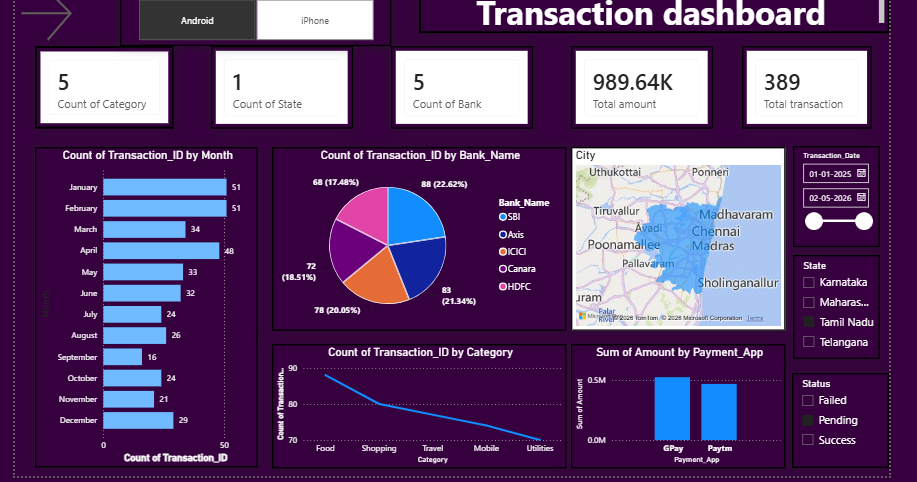

This screenshot's page, from the dashboard's own definition file:
{"tool":"powerbi","page":{"name":"Page 1","canvas":[1280,720],"ordinal":0},"visuals":[{"type":"textbox","box":[591.3,0,688.7,72.2],"z":0},{"type":"cardVisual","fields":{"Data":["CountNonNull(gpay paytm data set.Transaction_ID)"]},"box":[1063.9,90.7,190.2,121.5],"z":1000},{"type":"cardVisual","fields":{"Data":["Sum(gpay paytm data set.Amount)"]},"box":[813.7,90.7,207.8,121.5],"z":2000},{"type":"cardVisual","fields":{"Data":["Count(gpay paytm data set.Bank_Name)"]},"box":[550.2,90.7,207.8,121.5],"z":3000},{"type":"cardVisual","fields":{"Data":["Count(gpay paytm data set.State)"]},"box":[286.8,90.7,207.8,121.5],"z":4000},{"type":"cardVisual","fields":{"Data":["Count(gpay paytm data set.Category)"]},"box":[29.3,90.7,203.4,121.5],"z":5000},{"type":"pieChart","fields":{"Y":["CountNonNull(gpay paytm data set.Transaction_ID)"],"Category":["gpay paytm data set.Bank_Name"]},"box":[375.4,238.5,430.8,269.2],"z":6000},{"type":"barChart","fields":{"Category":["gpay paytm data set.Transaction_Date.Variation.Date Hierarchy.Month"],"Y":["CountNonNull(gpay paytm data set.Transaction_ID)"]},"box":[29.2,238.5,326.2,469.2],"z":7000},{"type":"lineChart","fields":{"Category":["gpay paytm data set.Category"],"Y":["CountNonNull(gpay paytm data set.Transaction_ID)"]},"box":[375.4,526.2,430.8,181.5],"z":8000},{"type":"filledMap","fields":{"Category":["gpay paytm data set.City"]},"box":[813.8,238.5,313.8,269.2],"z":9000},{"type":"columnChart","fields":{"Category":["gpay paytm data set.Payment_App"],"Y":["Sum(gpay paytm data set.Amount)"]},"box":[813.8,526.2,313.8,181.5],"z":10000},{"type":"slicer","fields":{"Values":["gpay paytm data set.Transaction_Date"]},"box":[1138.8,237.3,126.9,147.8],"z":11000},{"type":"slicer","fields":{"Values":["gpay paytm data set.State"]},"box":[1138.8,397,126.9,152.2],"z":12000},{"type":"slicer","fields":{"Values":["gpay paytm data set.Status"]},"box":[1137.3,568.7,141.8,138.8],"z":13000},{"type":"slicer","fields":{"Values":["gpay paytm data set.Device"]},"box":[153.7,0,396.6,90.7],"z":14000},{"type":"actionButton","box":[0,0,99.5,90.7],"z":14001}]}

Visuals, with their boxes on the page's 1280x720 design canvas (x1, y1, x2, y2). These are canvas units, not pixel positions in the 917x482 screenshot, which may show the page scaled, cropped or inside an application window:
textbox: [left=591, top=0, right=1280, bottom=72]
cardVisual - CountNonNull(gpay paytm data set.Transaction_ID): [left=1064, top=91, right=1254, bottom=212]
cardVisual - Sum(gpay paytm data set.Amount): [left=814, top=91, right=1022, bottom=212]
cardVisual - Count(gpay paytm data set.Bank_Name): [left=550, top=91, right=758, bottom=212]
cardVisual - Count(gpay paytm data set.State): [left=287, top=91, right=495, bottom=212]
cardVisual - Count(gpay paytm data set.Category): [left=29, top=91, right=233, bottom=212]
pieChart - CountNonNull(gpay paytm data set.Transaction_ID) x gpay paytm data set.Bank_Name: [left=375, top=238, right=806, bottom=508]
barChart - gpay paytm data set.Transaction_Date.Variation.Date Hierarchy.Month x CountNonNull(gpay paytm data set.Transaction_ID): [left=29, top=238, right=355, bottom=708]
lineChart - gpay paytm data set.Category x CountNonNull(gpay paytm data set.Transaction_ID): [left=375, top=526, right=806, bottom=708]
filledMap - gpay paytm data set.City: [left=814, top=238, right=1128, bottom=508]
columnChart - gpay paytm data set.Payment_App x Sum(gpay paytm data set.Amount): [left=814, top=526, right=1128, bottom=708]
slicer - gpay paytm data set.Transaction_Date: [left=1139, top=237, right=1266, bottom=385]
slicer - gpay paytm data set.State: [left=1139, top=397, right=1266, bottom=549]
slicer - gpay paytm data set.Status: [left=1137, top=569, right=1279, bottom=708]
slicer - gpay paytm data set.Device: [left=154, top=0, right=550, bottom=91]
actionButton: [left=0, top=0, right=100, bottom=91]
